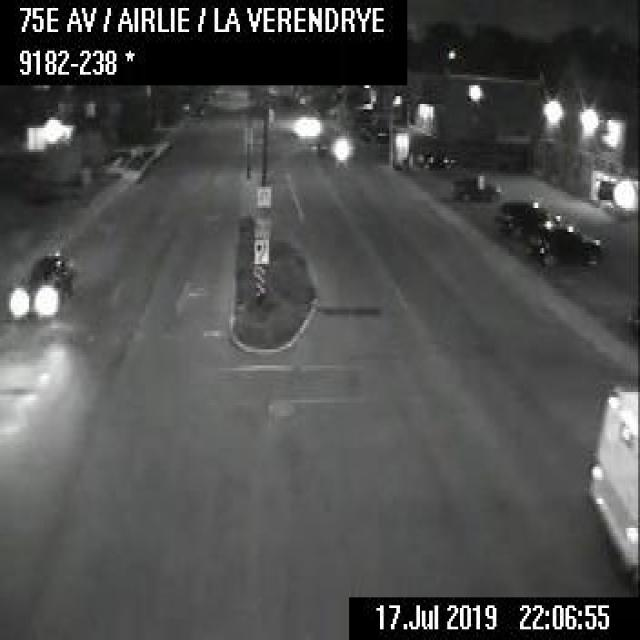vehicle: (584, 381, 638, 595), (5, 245, 74, 320), (528, 216, 600, 269), (493, 195, 545, 237), (453, 173, 499, 201), (287, 109, 320, 139), (420, 148, 456, 170)
